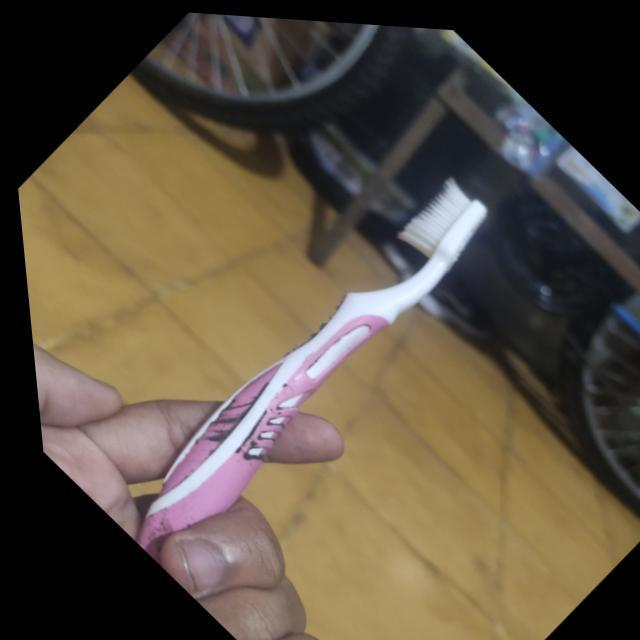toothbrush: (38, 97, 546, 595)
